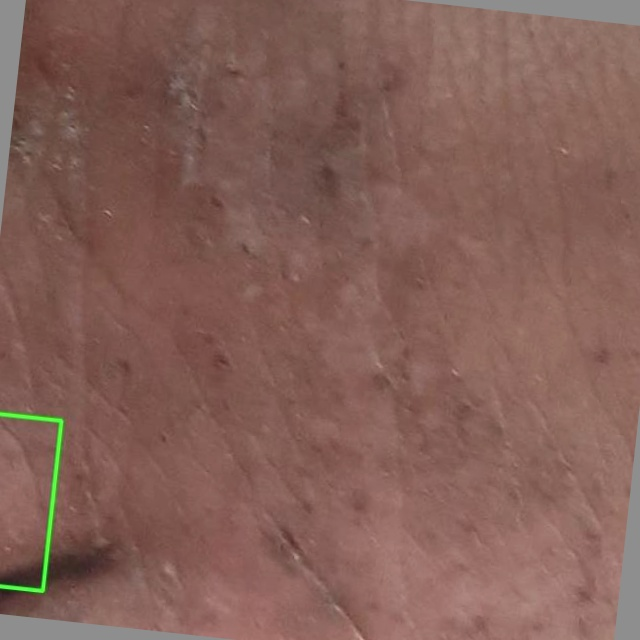Eczema: (0, 414, 61, 590)
